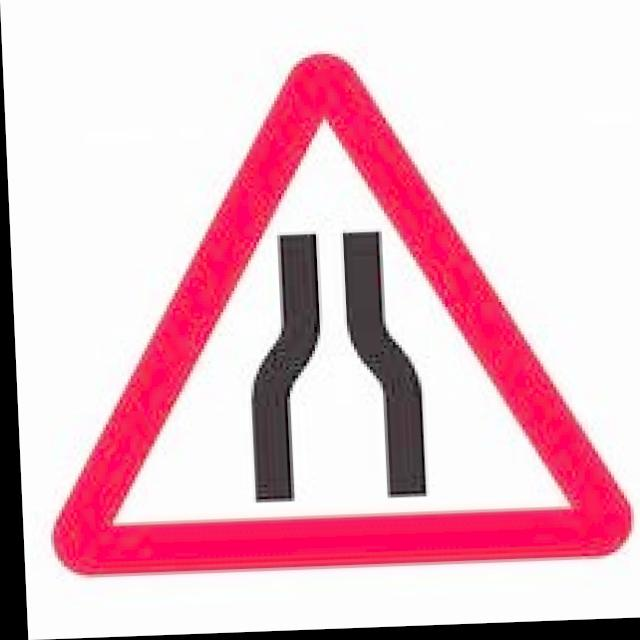NARROW_ROAD_AHEAD: (30, 47, 633, 578)
